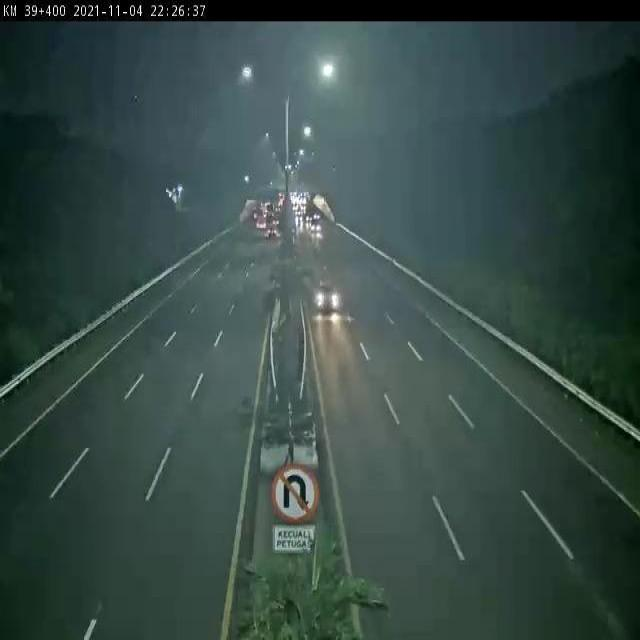car: (313, 276, 348, 321)
